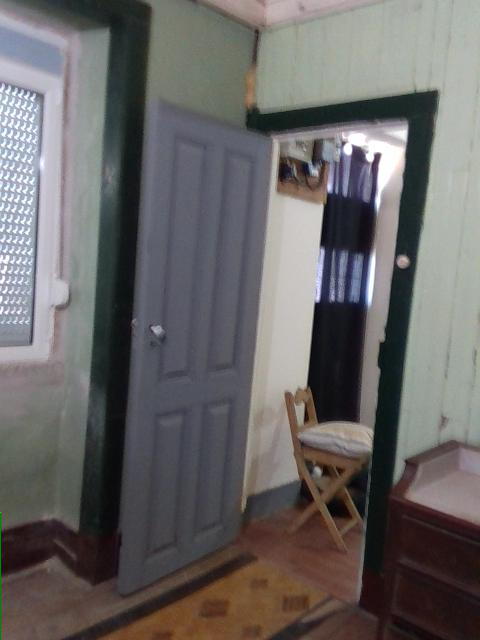open_door: (236, 88, 434, 599)
